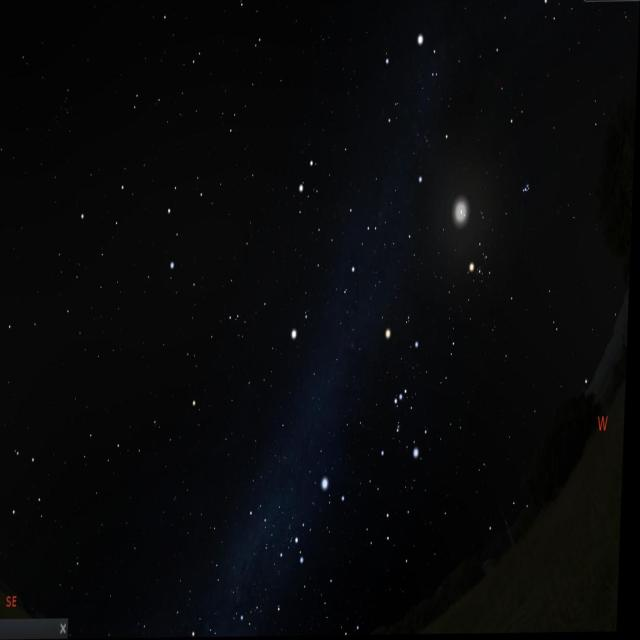canis_major: (290, 481, 359, 576)
canis_minor: (286, 306, 325, 368)
gemini: (283, 141, 400, 309)
leo: (79, 160, 213, 280)
moon: (445, 177, 484, 233)
orion: (378, 319, 434, 474)
pleiades: (518, 176, 539, 204)
taurus: (462, 164, 543, 304)
